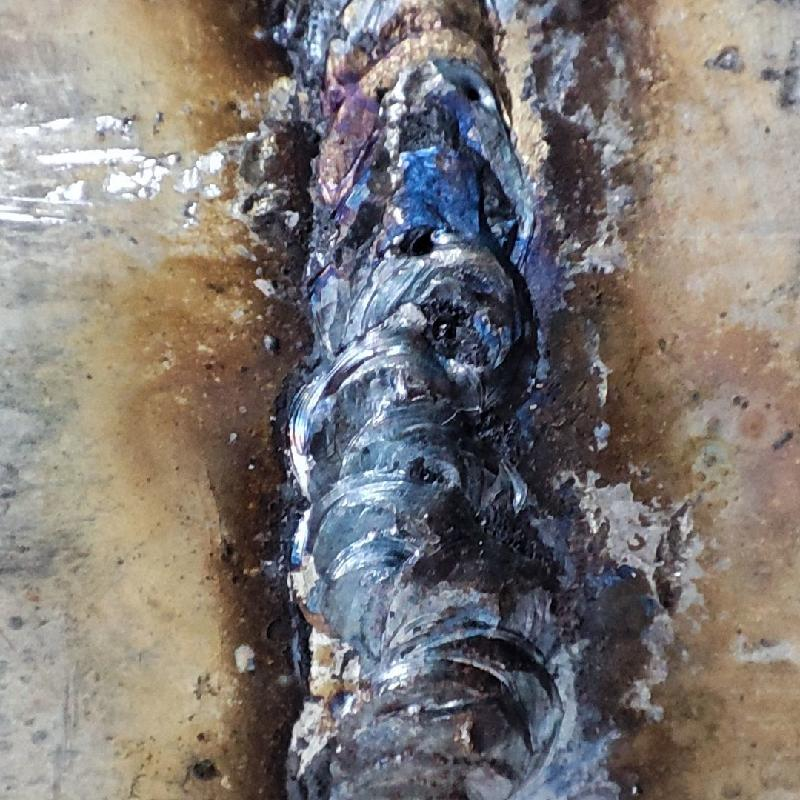Surface_pores: (403, 214, 453, 271), (422, 302, 475, 350)
